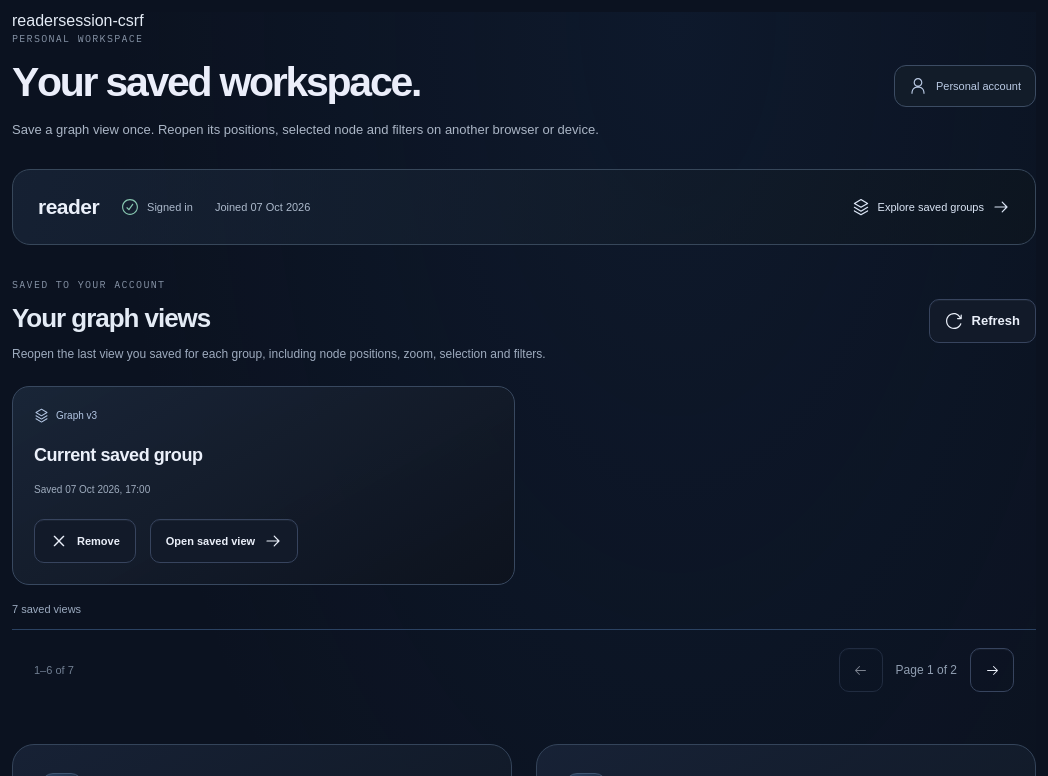
Test: saved account graph views › paginates private views with bounded reads and labels archived groups without implying new features
Expected: the heading "Current saved group" is shown, left=34, top=445, right=202, bottom=465
Click the button named "Next page" at x=992, y=670, box left=970, top=648, right=1014, bottom=692
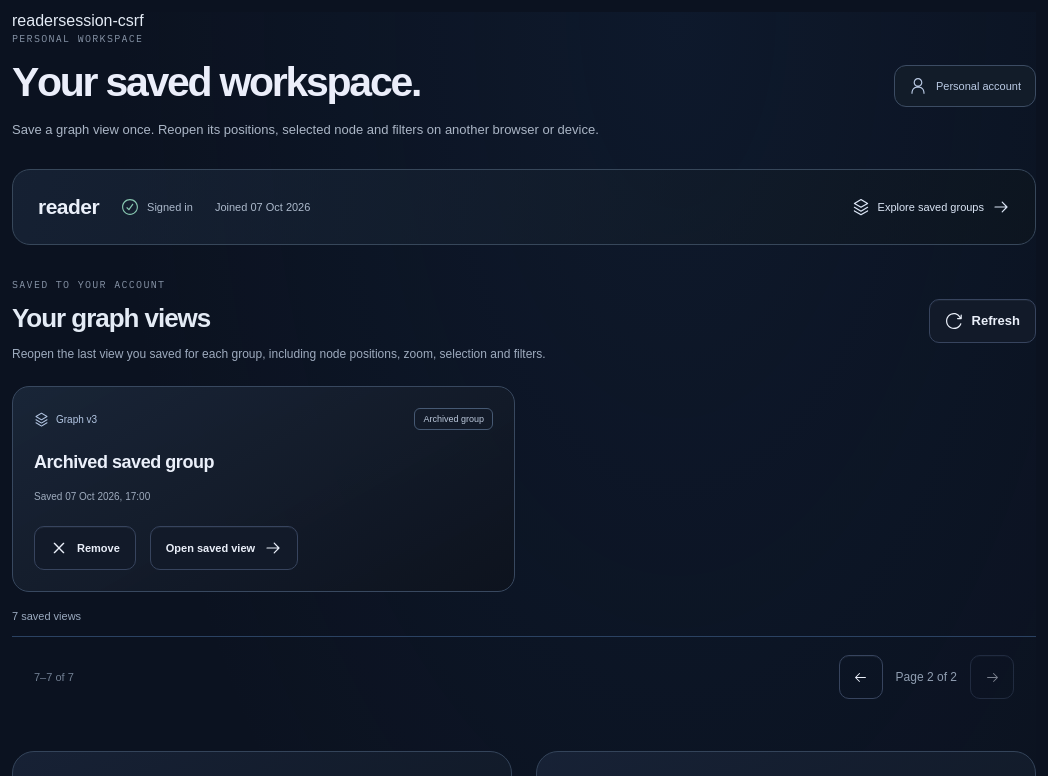
Expected: the heading "Archived saved group" is shown, left=34, top=452, right=214, bottom=472
Expected: the text "Archived group" is shown, left=414, top=408, right=493, bottom=430
